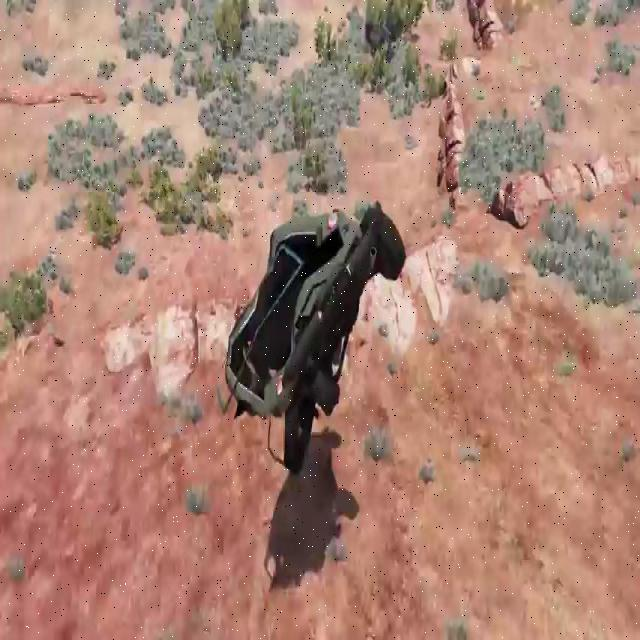severe: (214, 191, 402, 473)
